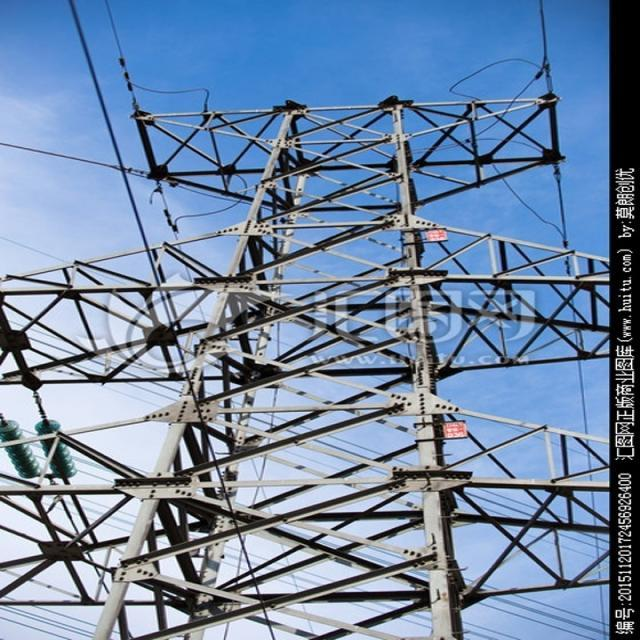non-critical vegetation: (3, 88, 622, 588)
